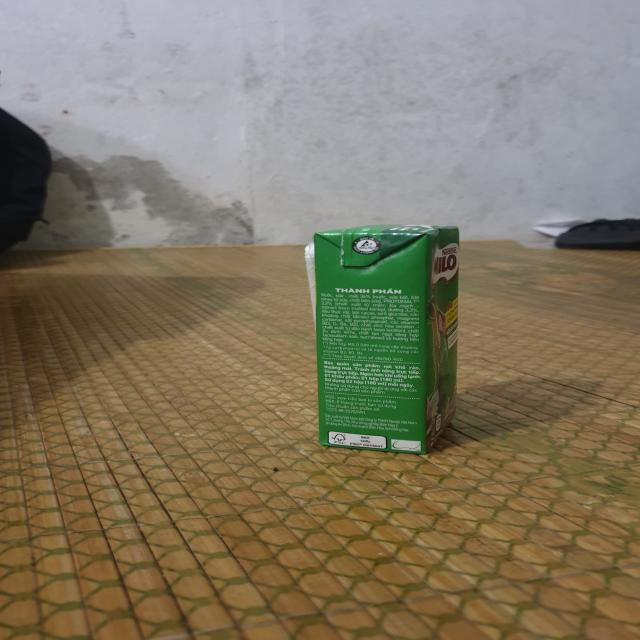Milo: (307, 222, 468, 457)
